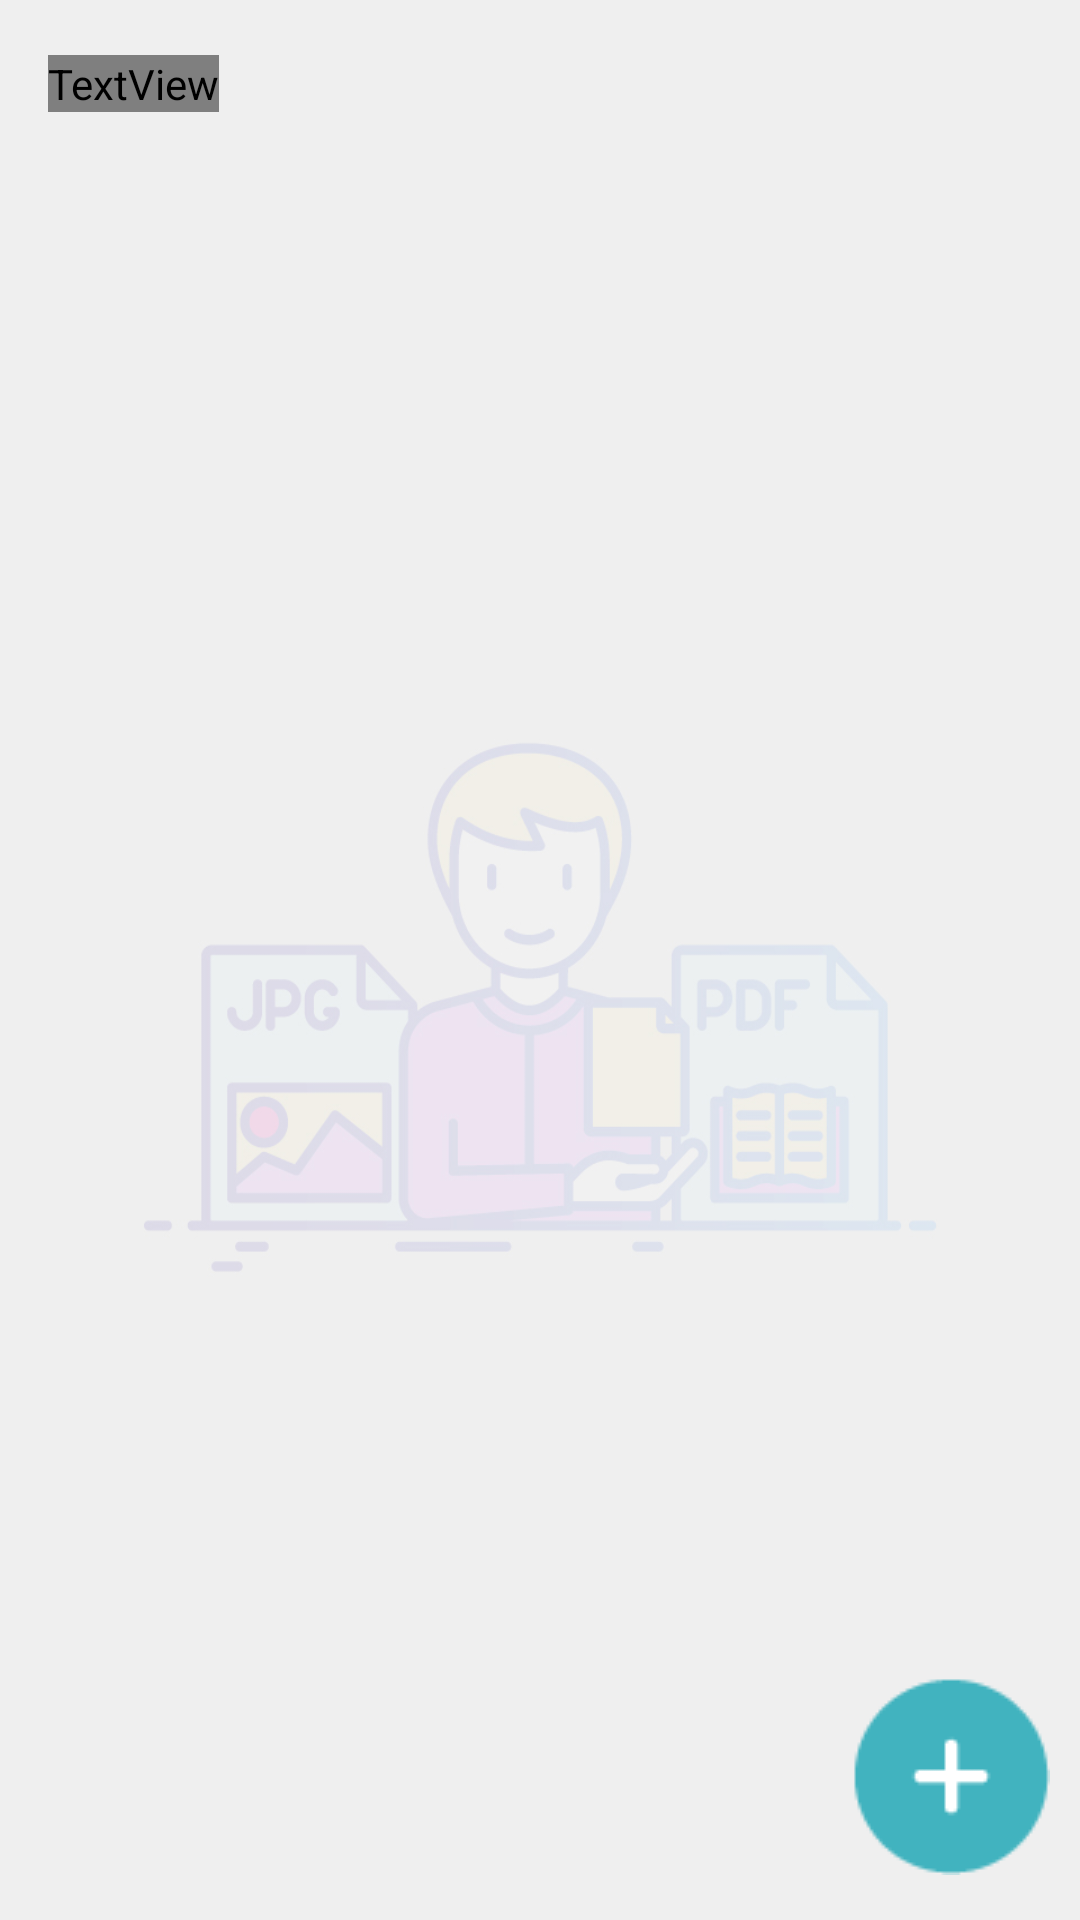

Screen size 1080px x 1920px. Icon name, then its box in pixels as (x1, y1, x2, y2):
add: (854, 1679, 1050, 1875)
